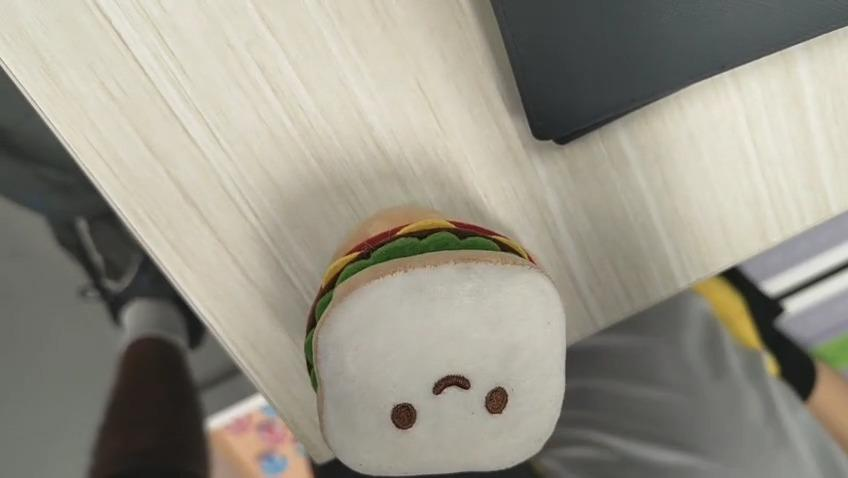objects: (304, 210, 570, 478)
